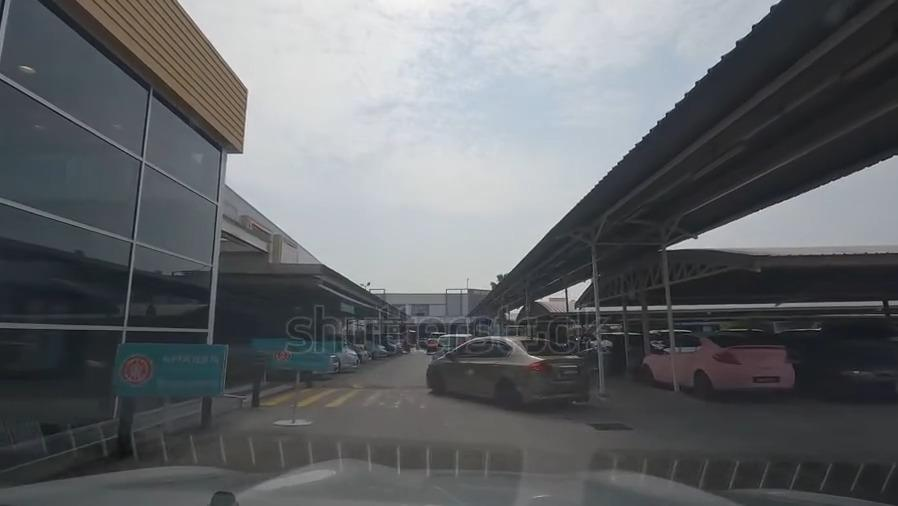car: (429, 342, 583, 399), (646, 339, 787, 391), (792, 332, 898, 397), (845, 314, 898, 343), (433, 331, 470, 355), (423, 329, 441, 351)
manhole: (585, 415, 633, 437)
pedestrian: (255, 392, 572, 413)
speedbump: (313, 381, 431, 391)
wheel: (496, 380, 518, 410), (427, 367, 444, 394)
